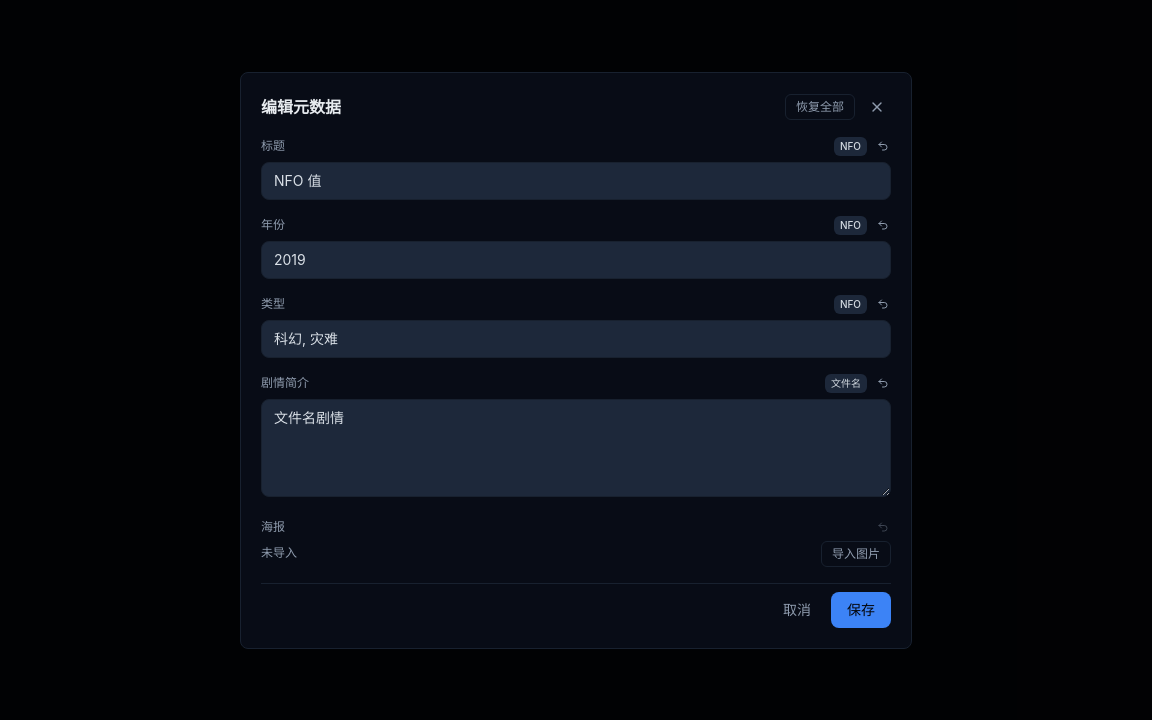
Test: MetadataEditor (QYP2-023) › keeps drafts and renders per-field diffs on conflict
This screenshot has width=1152, height=720.
Expected: the heading "编辑元数据" is shown, x1=261 y1=94 x2=341 y2=118
Replace the text in the field labelled "标题" with "我的标题" at {"x": 576, "y": 180}, box x1=261 y1=162 x2=891 y2=200
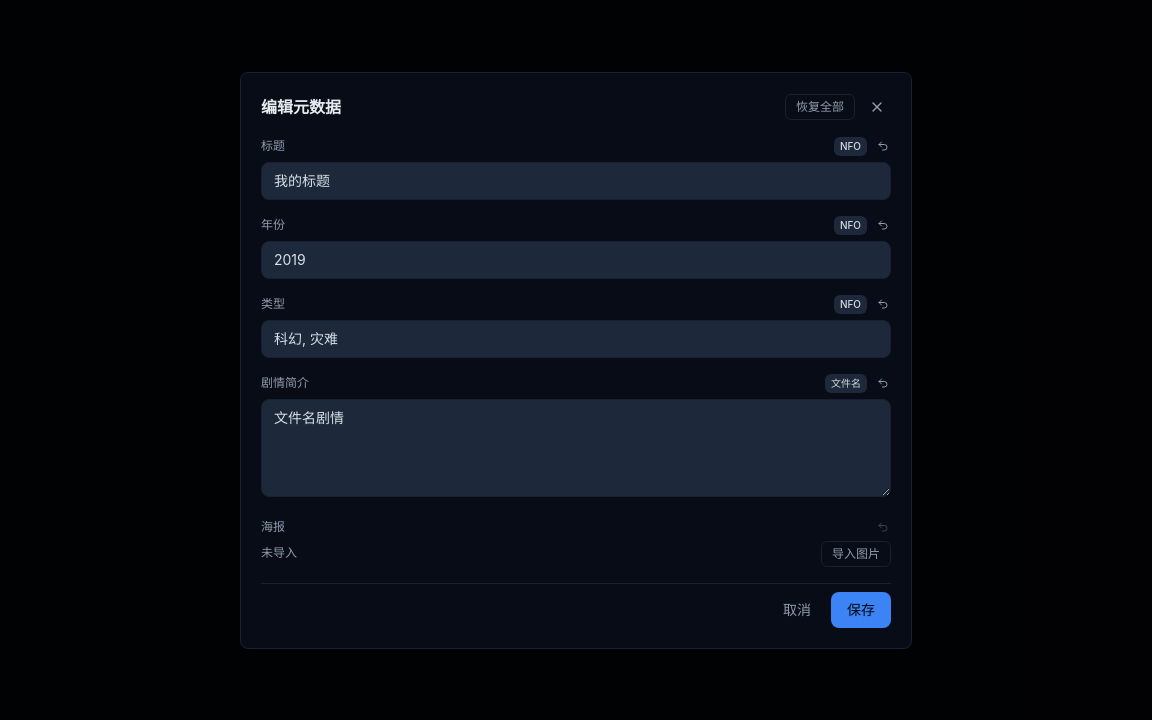
Click the button "保存".
click(861, 610)  # box x1=831 y1=592 x2=891 y2=628
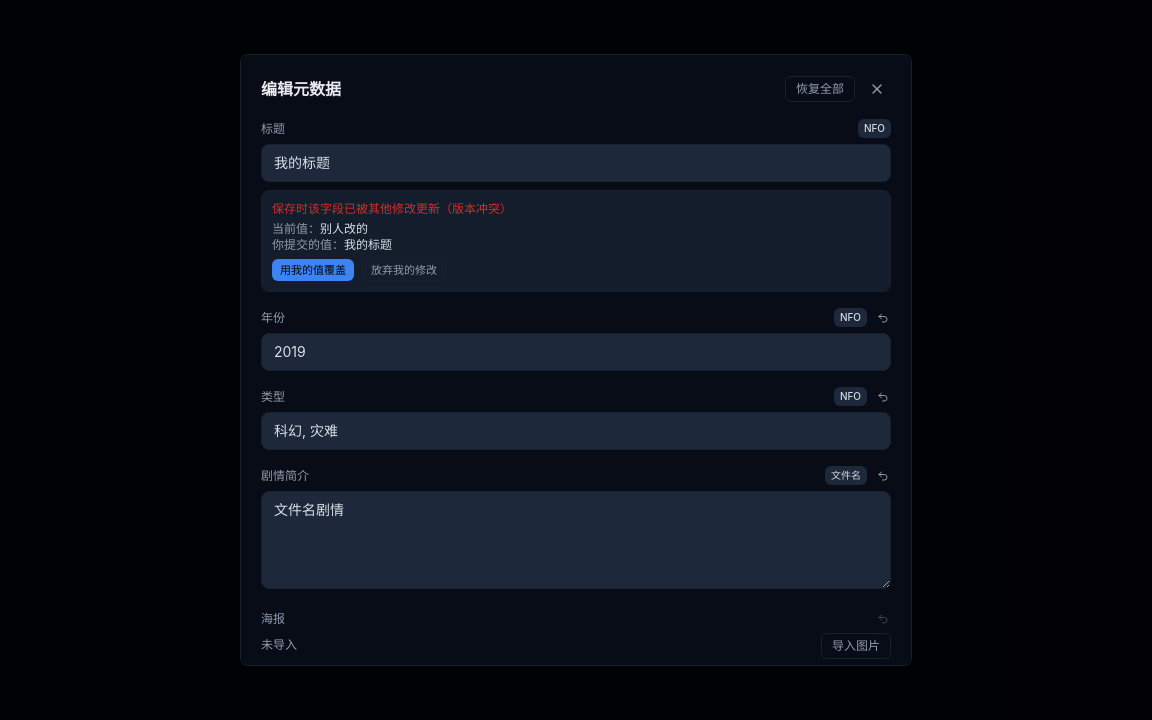
Expected: the text "当前值：别人改的" is shown, x1=272 y1=221 x2=368 y2=236
Expected: the text "别人改的" is shown, x1=320 y1=221 x2=368 y2=236
Expected: the text "我的标题" is shown, x1=344 y1=237 x2=392 y2=252
